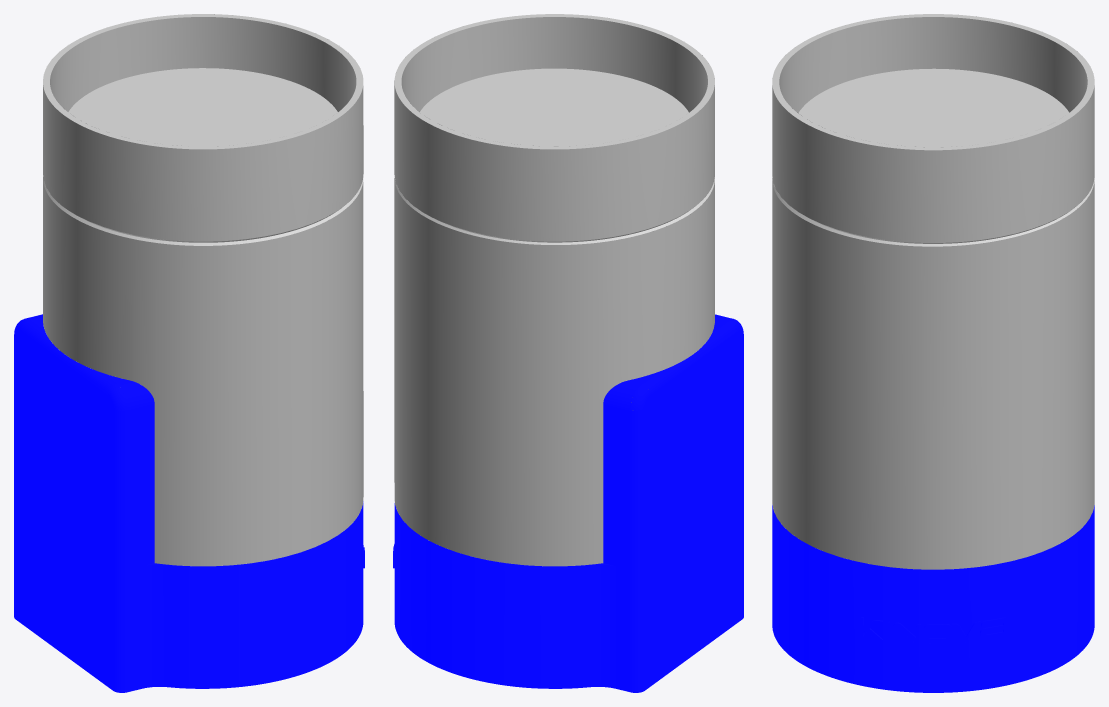
The model's file is base_adj.dae.
3 renders of one model, left to right at view 1: azimuth 30°, elevation 25°; view 2: azimuth 150°, elevation 25°; view 3: azimuth 270°, elevation 25°, orthographic.
Visible parts, largest first — view 1: base_assembly; view 2: base_assembly; view 3: base_assembly.
Part boxes in pixels (x1=…): base_assembly: x1=14, y1=14, x2=364, y2=692; base_assembly: x1=393, y1=14, x2=743, y2=692; base_assembly: x1=772, y1=14, x2=1094, y2=692.
Bounding box in the file's own units: 0.0925 × 0.092 × 0.1708.
